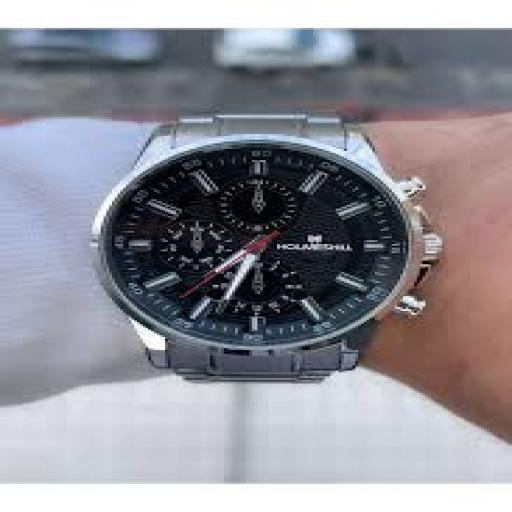KolSaati: (55, 78, 487, 428)
